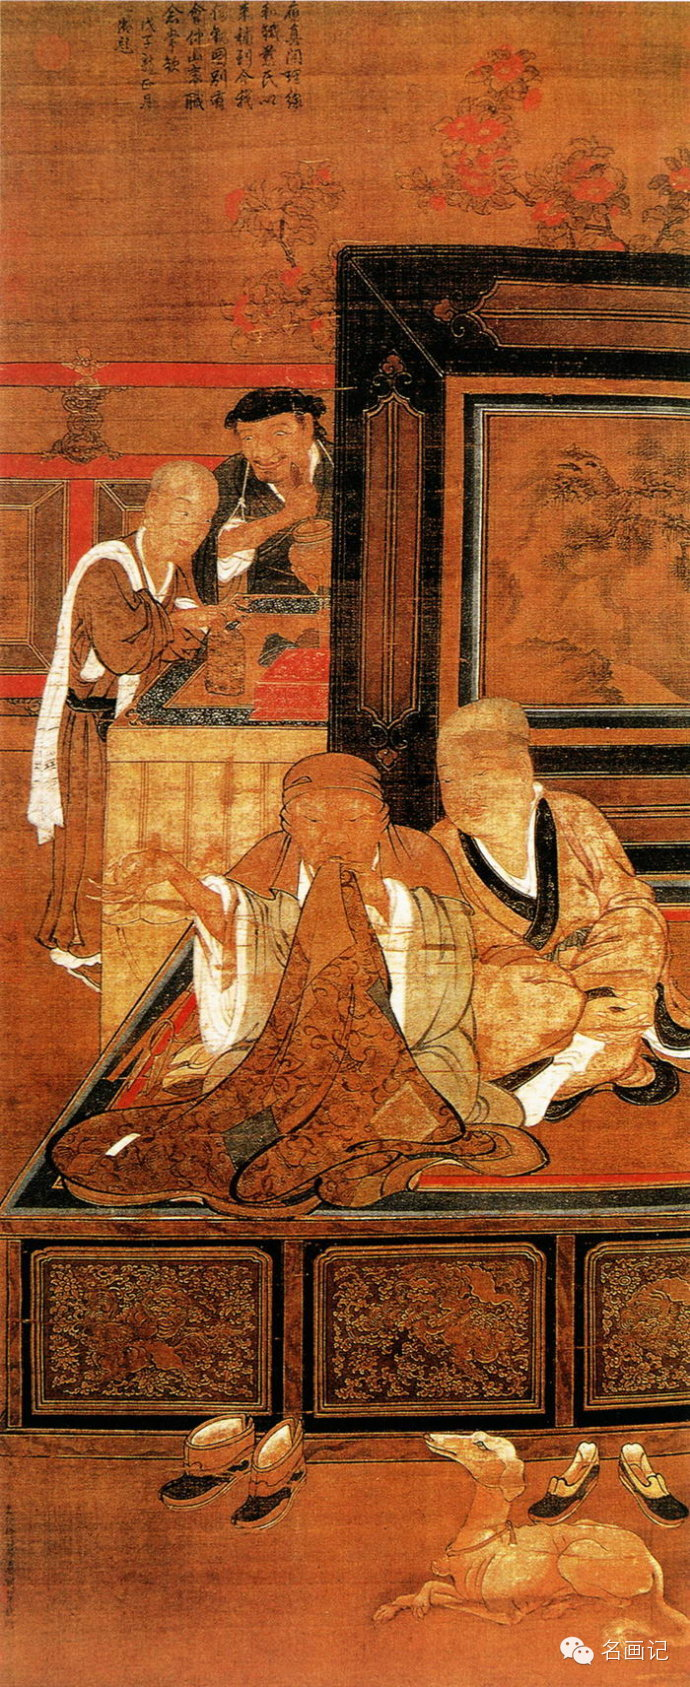dog: (372, 1418, 687, 1639)
man: (192, 378, 359, 613)
monk: (118, 742, 516, 1170), (414, 694, 681, 1117), (27, 444, 196, 981)
